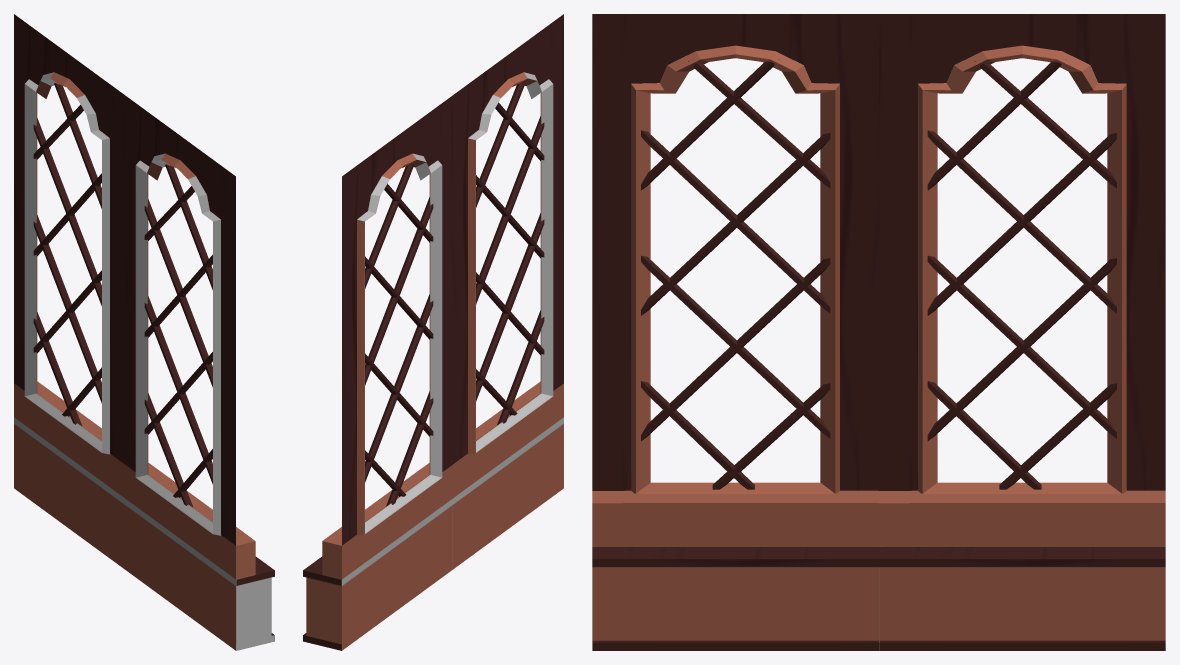
Rendered from pencere.fbx.
3 renders of one model, left to right at view 1: azimuth 30°, elevation 25°; view 2: azimuth 150°, elevation 25°; view 3: azimuth 270°, elevation 25°, orthographic. The views are drawn at different scales.
Parts seen in each view (by area): view 1: penceresol; view 2: penceresol; view 3: penceresol.
Boxes of the visible parts, x1,y1,x2,y2 form: penceresol: [14, 14, 274, 650]; penceresol: [303, 14, 563, 650]; penceresol: [592, 14, 1165, 650].
Size of the model in its own units: 427 by 4300 by 3649.
